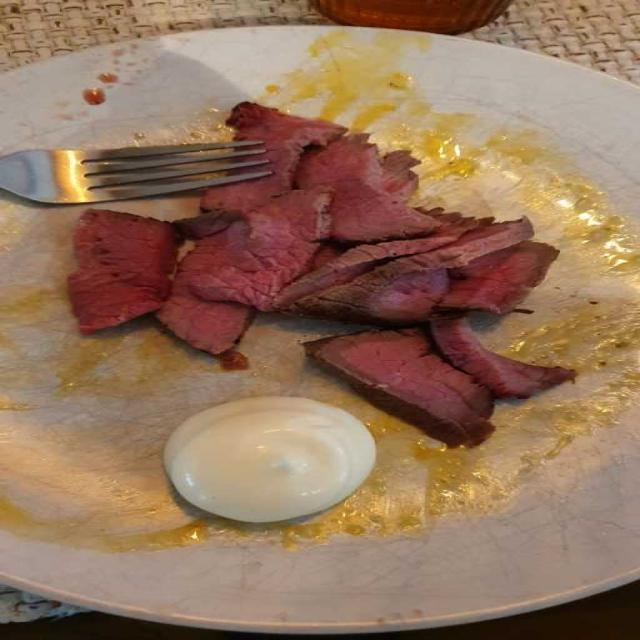beef: (57, 103, 569, 439)
mayonnaise: (173, 401, 373, 521)
